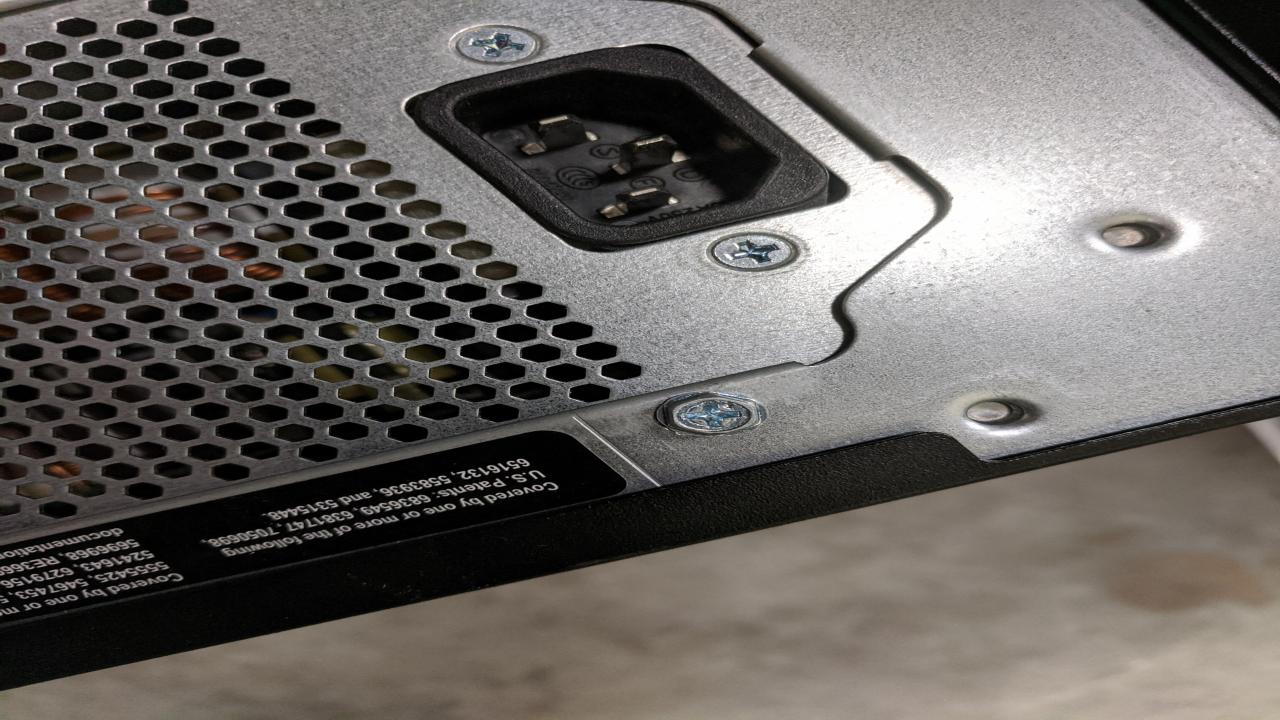CRS: (654, 391, 772, 436), (446, 22, 550, 68), (707, 230, 801, 274)
